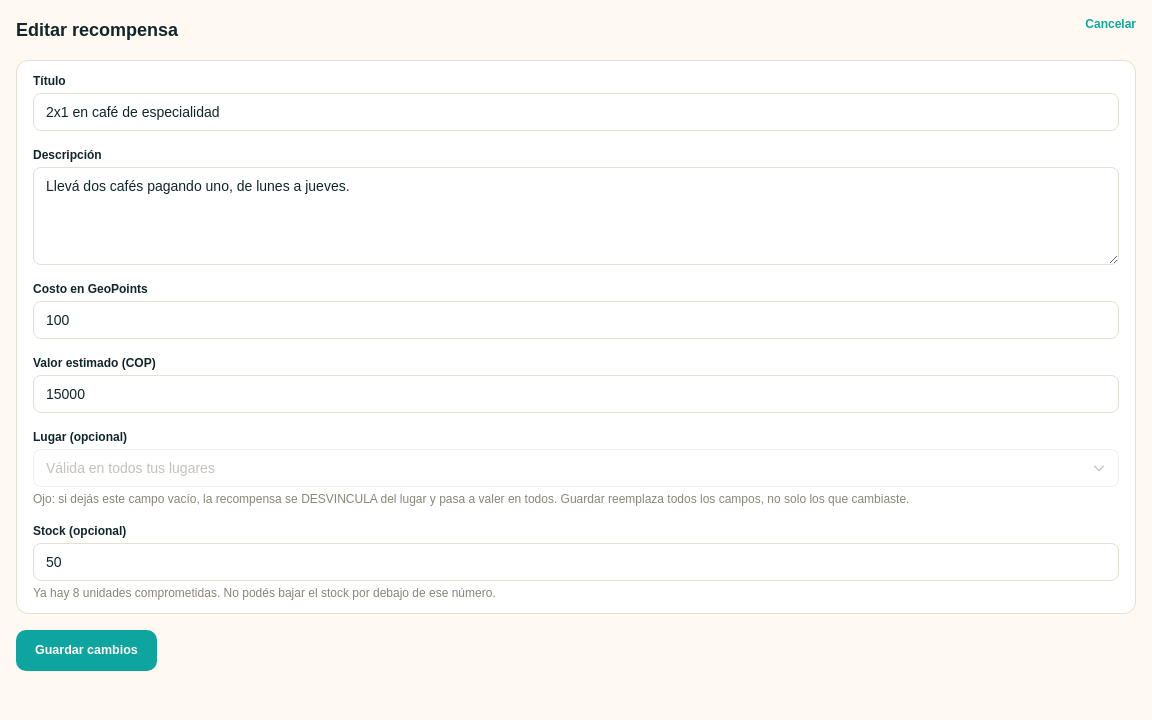
RewardEditPage › NO ofrece recargar en un error que no es de concurrencia
Expected: the field labelled "Título" is shown, [33,93,1119,131]
Click the button "Guardar cambios" at (86, 650), box [16,630,157,671]
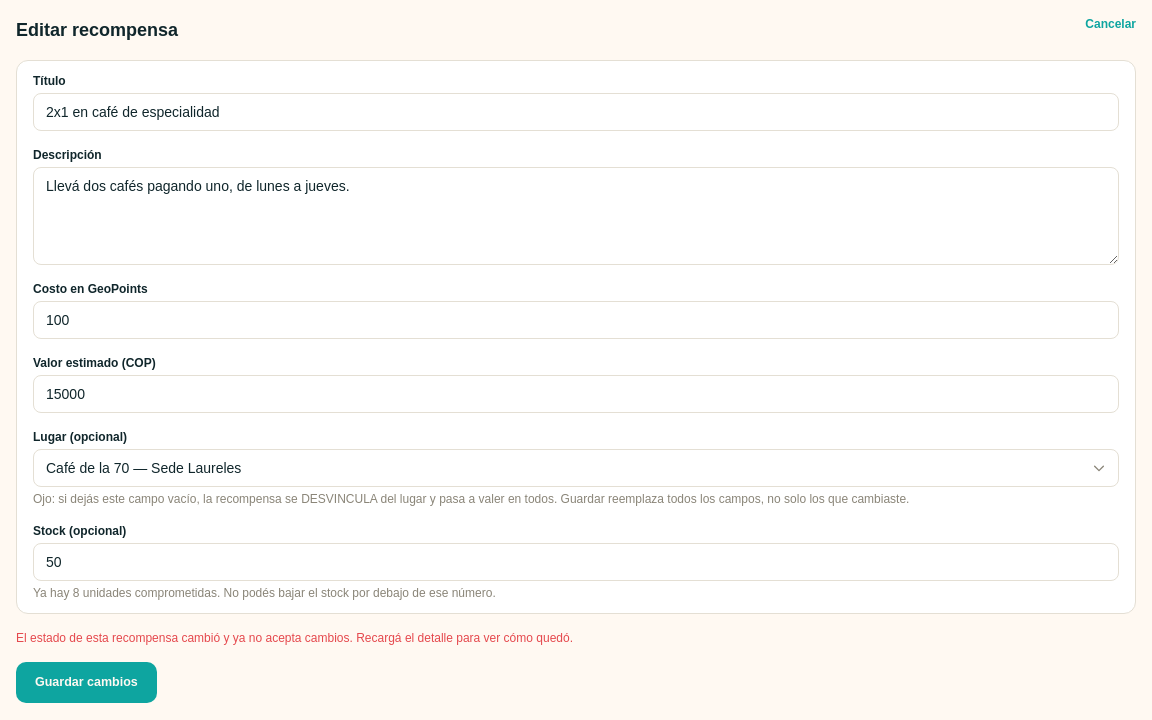
Now the message is shown, box [16,631,573,645]
